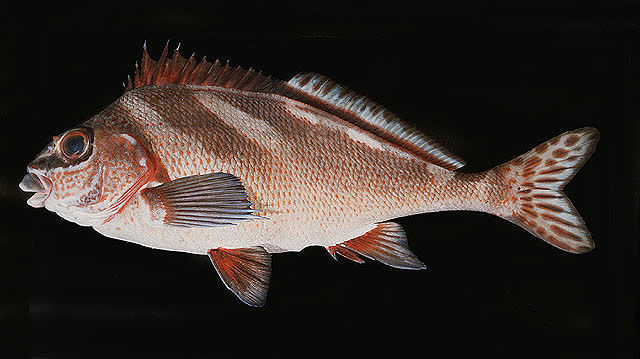fish: (19, 39, 597, 307)
